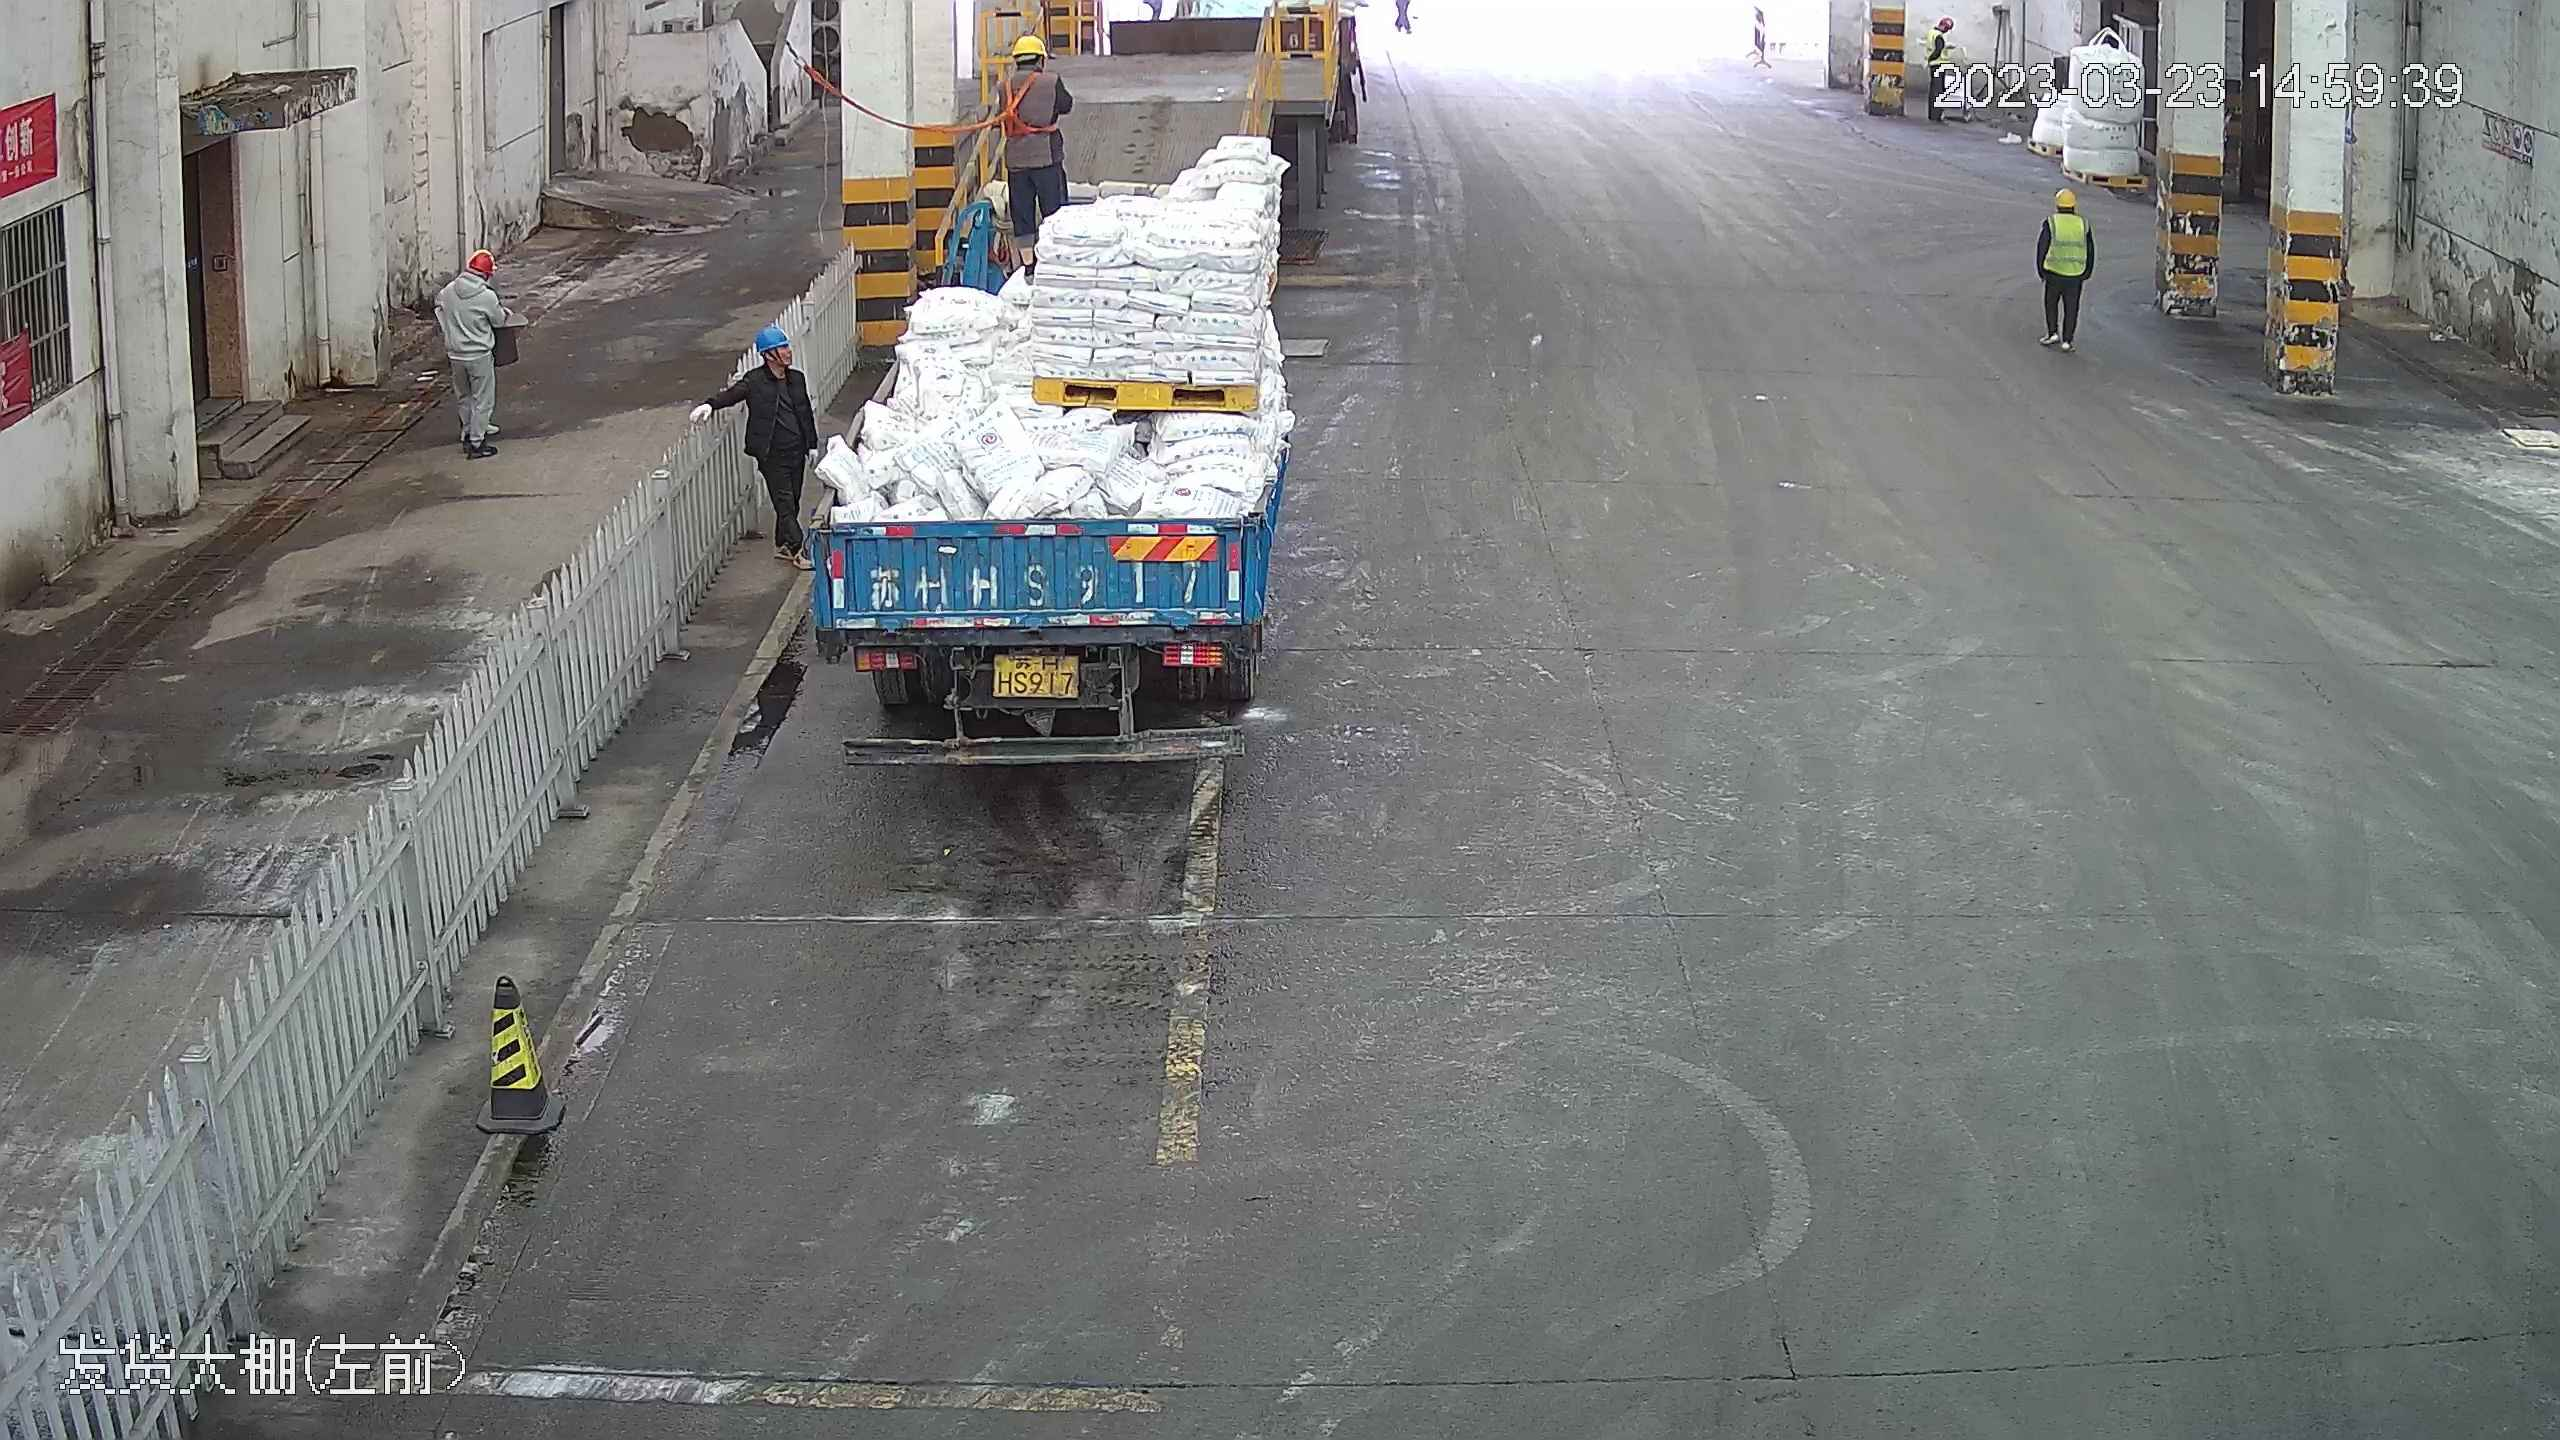belt: (999, 73, 1059, 137)
head: (736, 319, 810, 403), (996, 34, 1073, 105), (450, 245, 504, 311), (2041, 184, 2090, 233)
helmet: (752, 320, 795, 352), (1010, 31, 1049, 60), (2049, 181, 2084, 213), (466, 245, 496, 271)
people: (717, 313, 821, 567), (988, 29, 1074, 274), (440, 241, 514, 457), (2032, 180, 2095, 349)
truck: (805, 11, 1290, 765)
